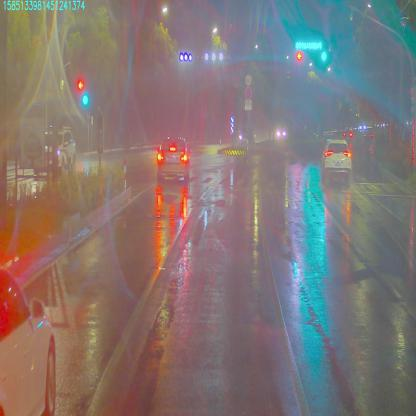traffic-light: (294, 39, 323, 52), (321, 53, 328, 62), (296, 53, 303, 61)
